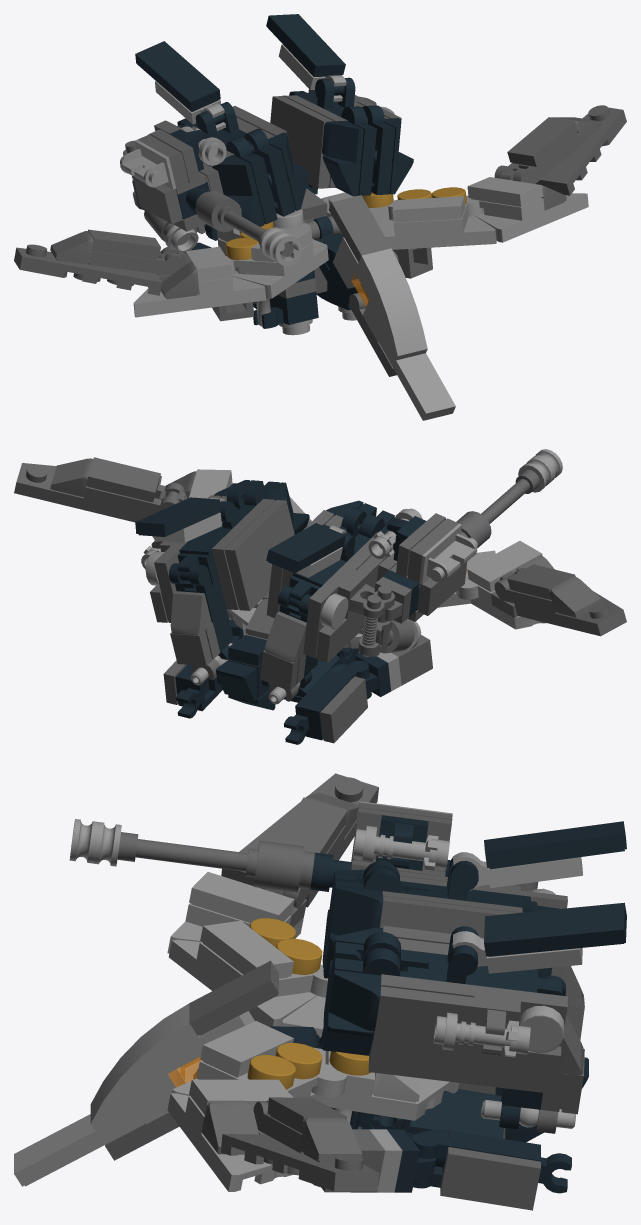
The model's file is swoop.dae.
3 views of the same model, one above another, from view 1: azimuth 30°, elevation 25°; view 2: azimuth 150°, elevation 25°; view 3: azimuth 270°, elevation 25° (orthographic). The views are drawn at different scales.
Size of the model in its own units: 406 by 261 by 145.
